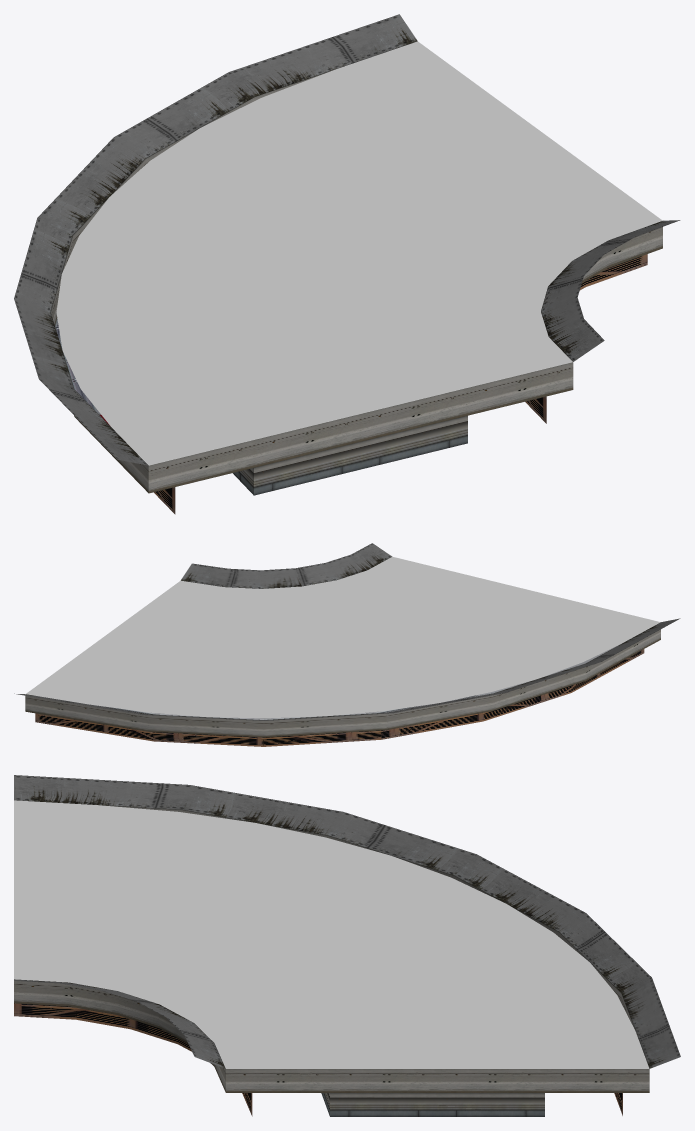
File: Bend1x1.fbx
3 views of the same model, one above another, from view 1: azimuth 30°, elevation 25°; view 2: azimuth 150°, elevation 25°; view 3: azimuth 270°, elevation 25° (orthographic). The views are drawn at different scales.
Parts seen in each view (by area): view 1: Empty_Mesh; view 2: Empty_Mesh; view 3: Empty_Mesh.
Part boxes in pixels (left/top/right/bottom): Empty_Mesh: left=14, top=14, right=680, bottom=514; Empty_Mesh: left=14, top=543, right=680, bottom=746; Empty_Mesh: left=14, top=775, right=680, bottom=1116.
Bounding box in the file's own units: 25.19 × 2.5 × 25.19.
